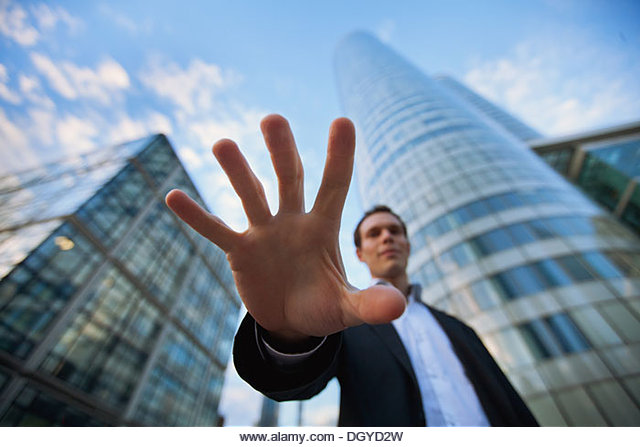non-diseased: (161, 121, 413, 344)
